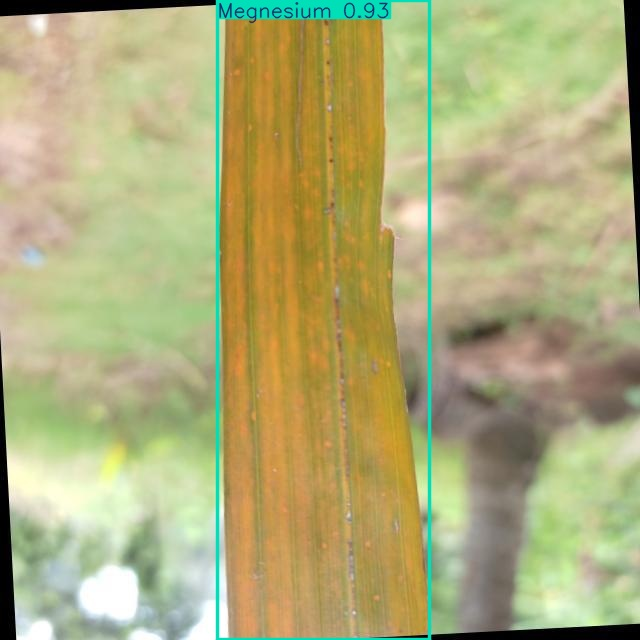Megnesium: (218, 0, 430, 640)
